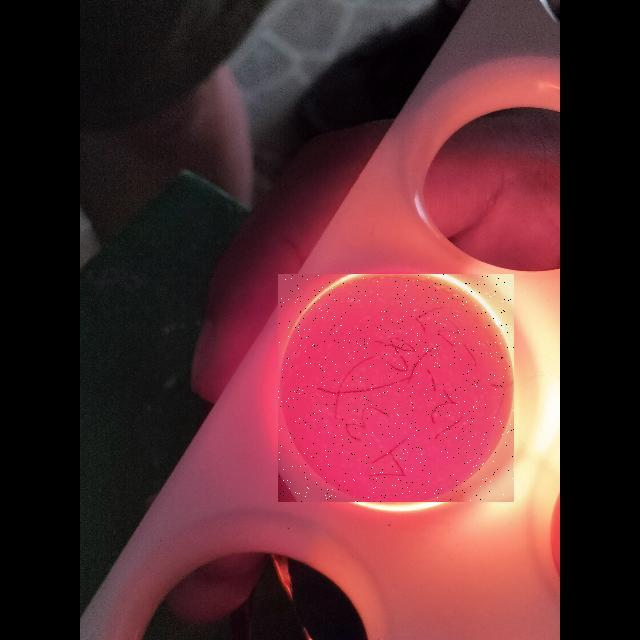Infertile: (278, 274, 514, 502)
